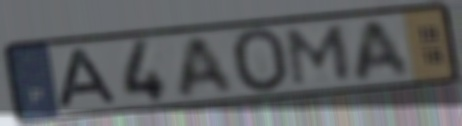4: (118, 36, 171, 106)
A: (56, 46, 122, 110), (352, 17, 415, 84), (176, 33, 238, 101)
M: (285, 23, 355, 89)
O: (229, 26, 293, 97)
